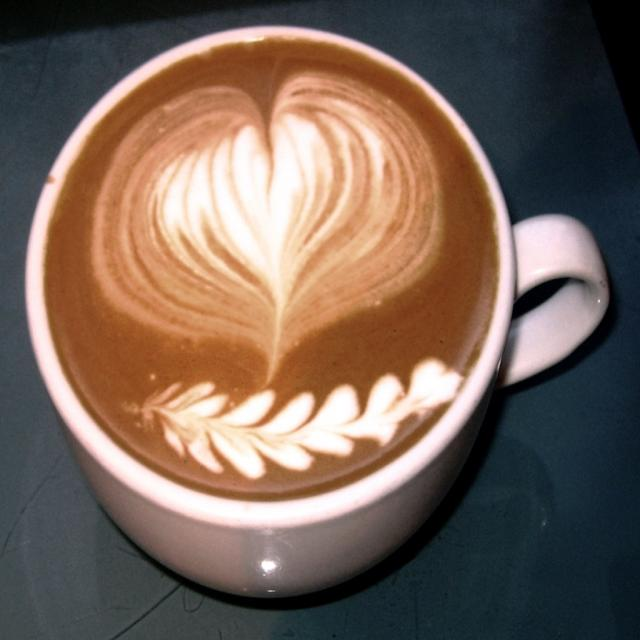latte: (26, 24, 519, 529)
